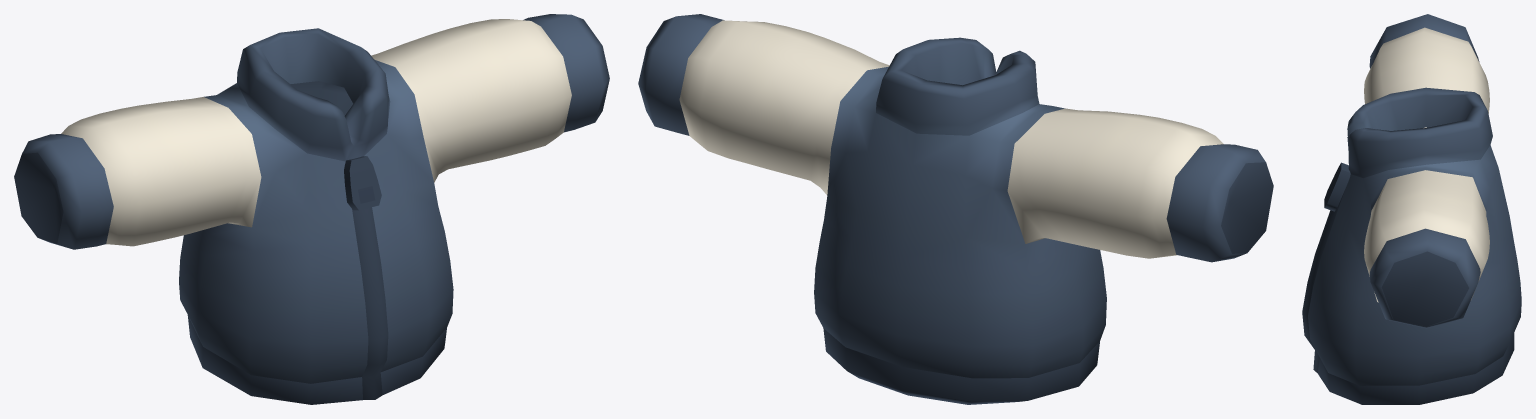
Rendered from Top_35.fbx.
3 views of the same model, side by side, from view 1: azimuth 30°, elevation 25°; view 2: azimuth 150°, elevation 25°; view 3: azimuth 270°, elevation 25° (orthographic). The views are drawn at different scales.
Visible parts, largest first — view 1: Top_35; view 2: Top_35; view 3: Top_35.
Part boxes in pixels (left/top/right/bottom): Top_35: left=14, top=14, right=609, bottom=404; Top_35: left=638, top=14, right=1273, bottom=404; Top_35: left=1302, top=14, right=1521, bottom=404.
Size of the model in its own units: 101 by 53.08 by 39.31.
